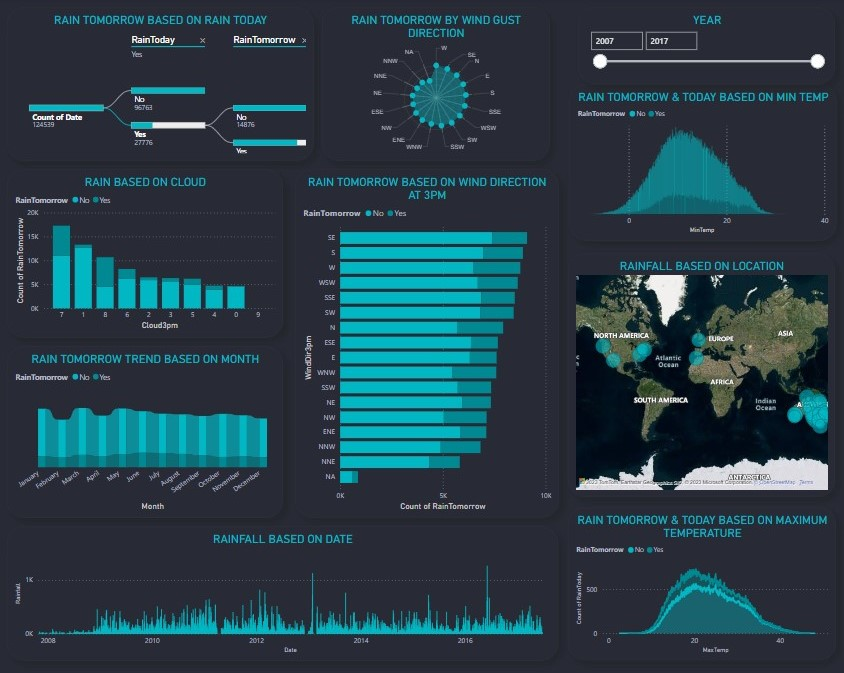

The dashboard page shown, as its layout file describes it:
{"tool":"powerbi","page":{"name":"Page 1","canvas":[1500,1200],"ordinal":0},"visuals":[{"type":"columnChart","title":"RAIN BASED ON CLOUD ","fields":{"Series":["weatherAUS.RainTomorrow"],"Y":["CountNonNull(weatherAUS.RainTomorrow)"],"Category":["weatherAUS.Cloud3pm","weatherAUS.Cloud9am"]},"box":[15.9,304.5,487.6,296.5],"z":0},{"type":"decompositionTreeVisual","title":"RAIN TOMORROW BASED ON RAIN TODAY","fields":{"Analyze":["CountNonNull(weatherAUS.Date)"],"ExplainBy":["weatherAUS.RainToday","weatherAUS.RainTomorrow"]},"box":[15.9,17.9,541.3,270.6],"z":1000},{"type":"ribbonChart","title":"RAIN TOMORROW TREND BASED ON MONTH","fields":{"Category":["weatherAUS.Date.Variation.Date Hierarchy.Month"],"Y":["CountNonNull(weatherAUS.RainTomorrow)"],"Series":["weatherAUS.RainTomorrow"]},"box":[15.9,616.9,487.6,302.5],"z":2000},{"type":"barChart","title":"RAIN TOMORROW BASED ON WIND DIRECTION AT 3PM","fields":{"Category":["weatherAUS.WindDir3pm"],"Y":["CountNonNull(weatherAUS.RainTomorrow)"],"Series":["weatherAUS.RainTomorrow"]},"box":[523.4,304.5,465.7,614.9],"z":3000},{"type":"RadarChart1446119667547","title":"RAIN TOMORROW BY WIND GUST DIRECTION","fields":{"Category":["weatherAUS.WindGustDir"],"Y":["CountNonNull(weatherAUS.RainTomorrow)"]},"box":[573.1,17.9,402,270.6],"z":4000},{"type":"ribbonChart","title":"RAIN TOMORROW & TODAY BASED ON MIN TEMP","fields":{"Category":["weatherAUS.MinTemp"],"Series":["weatherAUS.RainTomorrow"],"Y":["CountNonNull(weatherAUS.Date)"]},"box":[1009,153.2,471.6,276.6],"z":5000},{"type":"stackedAreaChart","title":"RAIN TOMORROW & TODAY BASED ON MAXIMUM TEMPERATURE","fields":{"Category":["weatherAUS.MaxTemp"],"Series":["weatherAUS.RainTomorrow"],"Y":["CountNonNull(weatherAUS.RainToday)"]},"box":[1007,901.5,473.6,270.6],"z":6000},{"type":"map","title":"RAINFALL BASED ON LOCATION","fields":{"Category":["weatherAUS.Location"],"Size":["CountNonNull(weatherAUS.RainTomorrow)"]},"box":[1007,453.7,471.6,429.9],"z":7000},{"type":"clusteredColumnChart","title":"RAINFALL BASED ON DATE","fields":{"Category":["weatherAUS.Date"],"Y":["Sum(weatherAUS.Rainfall)"]},"box":[15.9,935.3,973.1,236.8],"z":8000},{"type":"slicer","title":"YEAR","fields":{"Values":["weatherAUS.Date.Variation.Date Hierarchy.Year"]},"box":[1025.2,18.5,453,113.9],"z":9000}]}

Visuals, with their boxes in screenshot pixels (x1, y1, x2, y2), scaled from the page's 1500x1200 canvas onto the 844x673 screenshot:
"RAIN BASED ON CLOUD " columnChart: BBox(9, 171, 283, 337)
"RAIN TOMORROW BASED ON RAIN TODAY" decompositionTreeVisual: BBox(9, 10, 314, 162)
"RAIN TOMORROW TREND BASED ON MONTH" ribbonChart: BBox(9, 346, 283, 516)
"RAIN TOMORROW BASED ON WIND DIRECTION AT 3PM" barChart: BBox(294, 171, 557, 516)
"RAIN TOMORROW BY WIND GUST DIRECTION" RadarChart1446119667547: BBox(322, 10, 549, 162)
"RAIN TOMORROW & TODAY BASED ON MIN TEMP" ribbonChart: BBox(568, 86, 833, 241)
"RAIN TOMORROW & TODAY BASED ON MAXIMUM TEMPERATURE" stackedAreaChart: BBox(567, 506, 833, 657)
"RAINFALL BASED ON LOCATION" map: BBox(567, 254, 832, 496)
"RAINFALL BASED ON DATE" clusteredColumnChart: BBox(9, 525, 556, 657)
"YEAR" slicer: BBox(577, 10, 832, 74)
